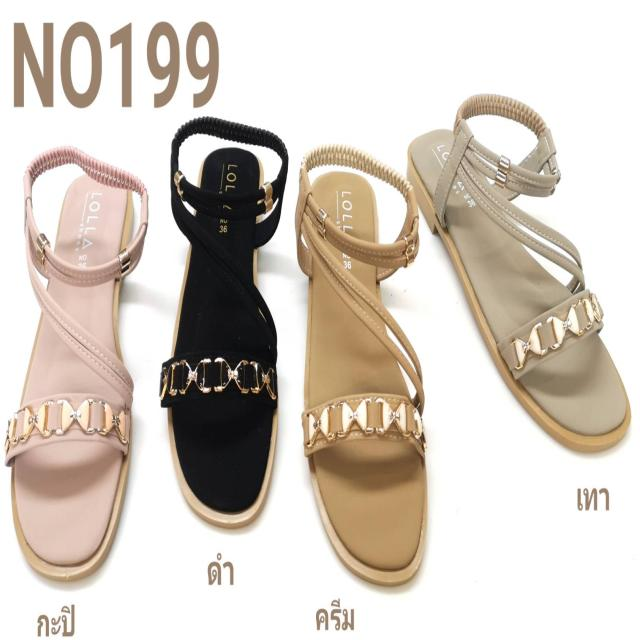black: (167, 141, 285, 517)
cream: (305, 169, 428, 588)
grey: (404, 131, 625, 442)
kapi: (12, 177, 134, 578)
